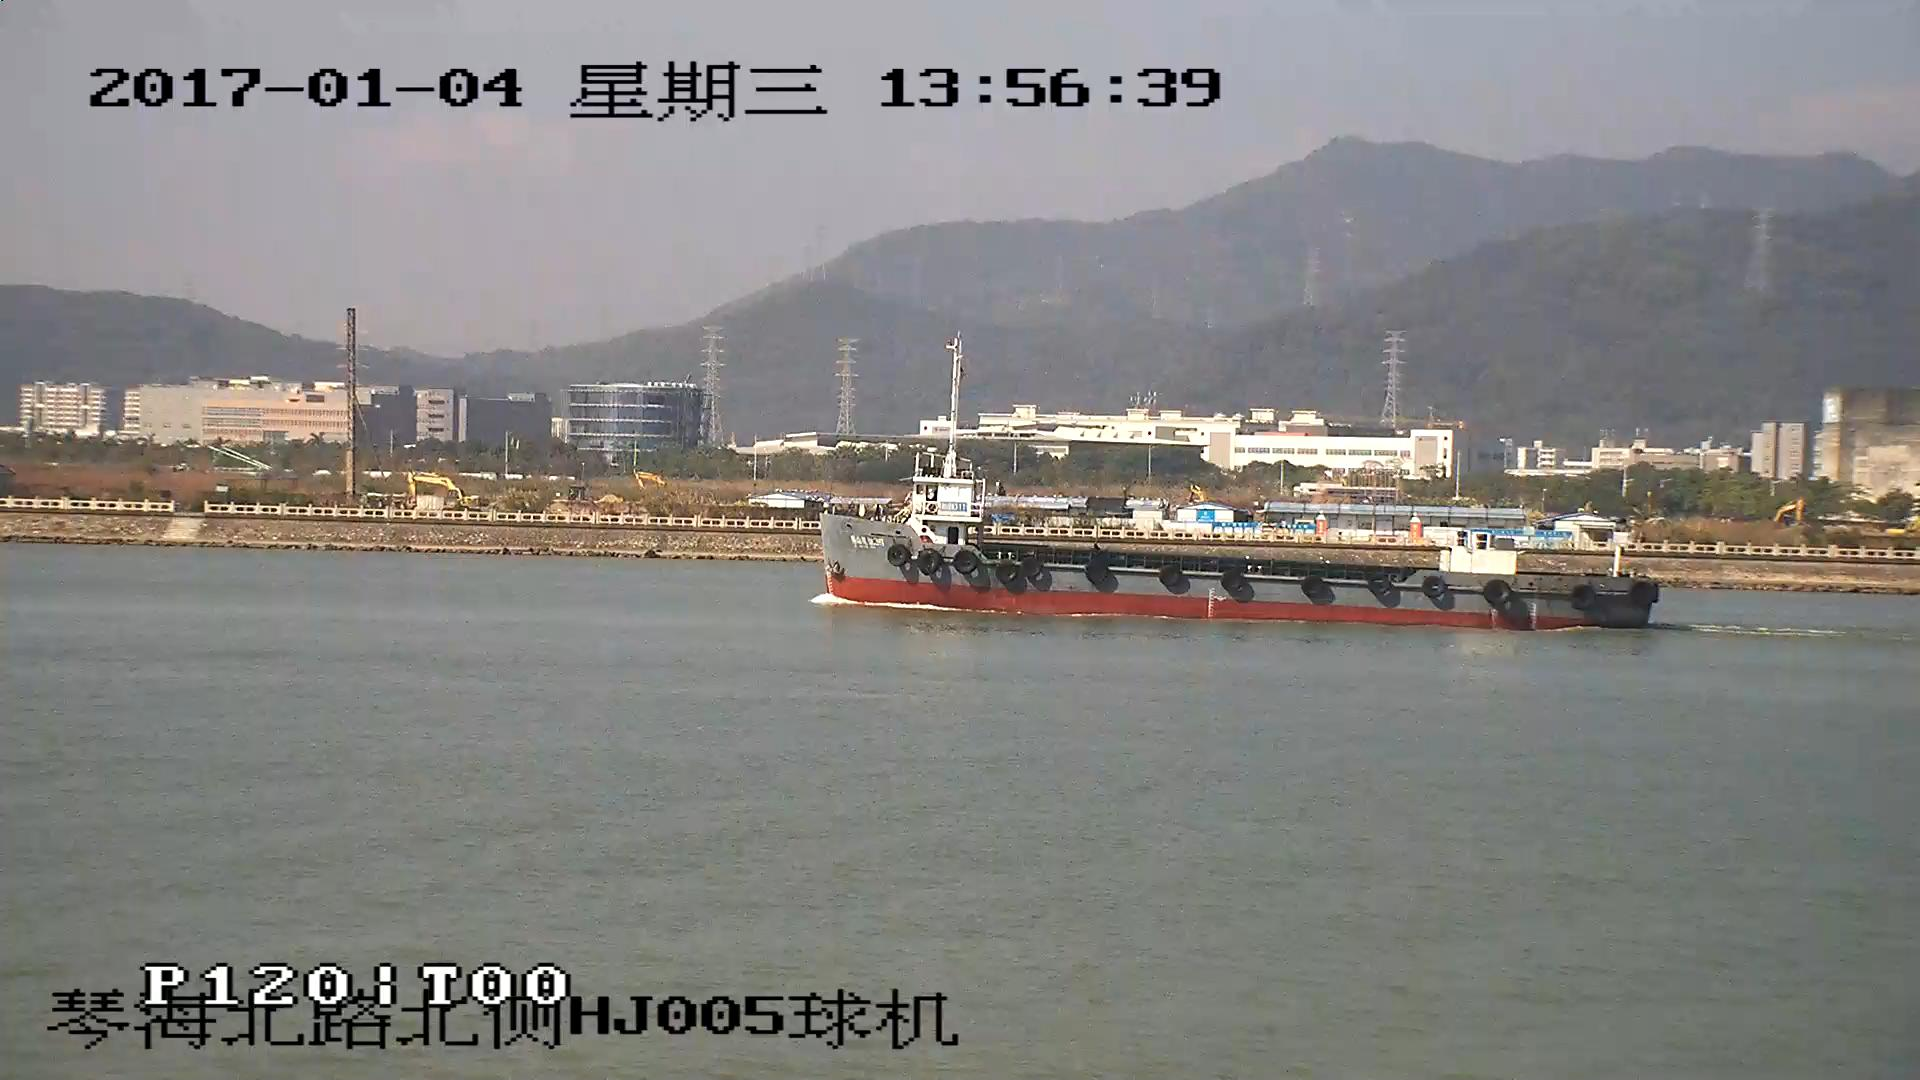general cargo ship: (813, 471, 1660, 635)
